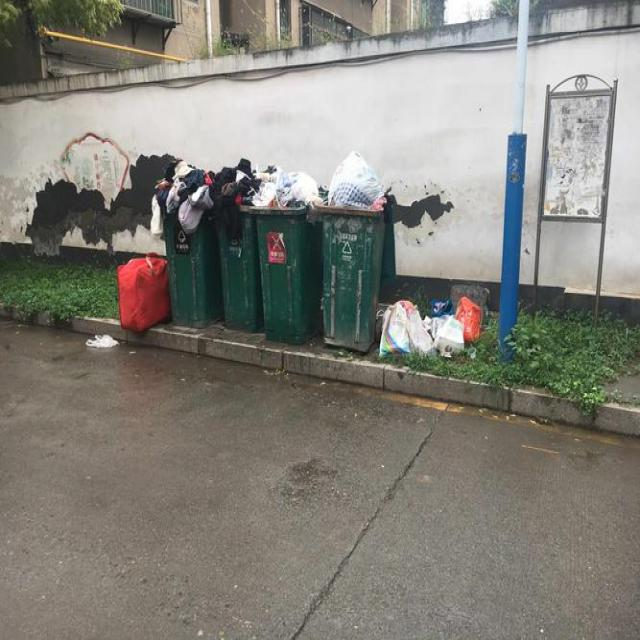garbage: (81, 248, 170, 347), (376, 294, 482, 356)
overflow: (311, 151, 383, 351), (248, 170, 320, 343), (150, 162, 220, 326), (212, 158, 262, 332)
